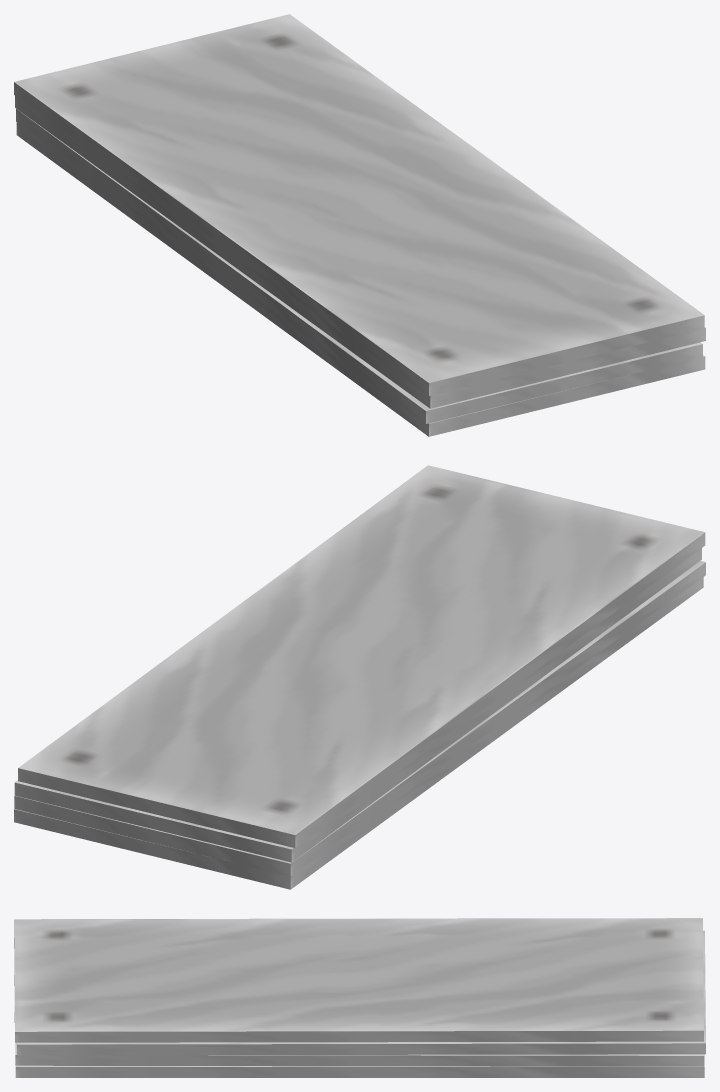
Rendered from stack_of_metal_sheets_no_rope.fbx.
3 views of the same model, one above another, from view 1: azimuth 30°, elevation 25°; view 2: azimuth 150°, elevation 25°; view 3: azimuth 270°, elevation 25° (orthographic). The views are drawn at different scales.
Parts seen in each view (by area): view 1: MetalSheetStack; view 2: MetalSheetStack; view 3: MetalSheetStack.
Part boxes in pixels (x1,y1,x2,y2): MetalSheetStack: (14,14,705,436); MetalSheetStack: (14,465,705,889); MetalSheetStack: (14,918,705,1077).
Size of the model in its own units: 0.1992 by 0.037 by 0.5079.
